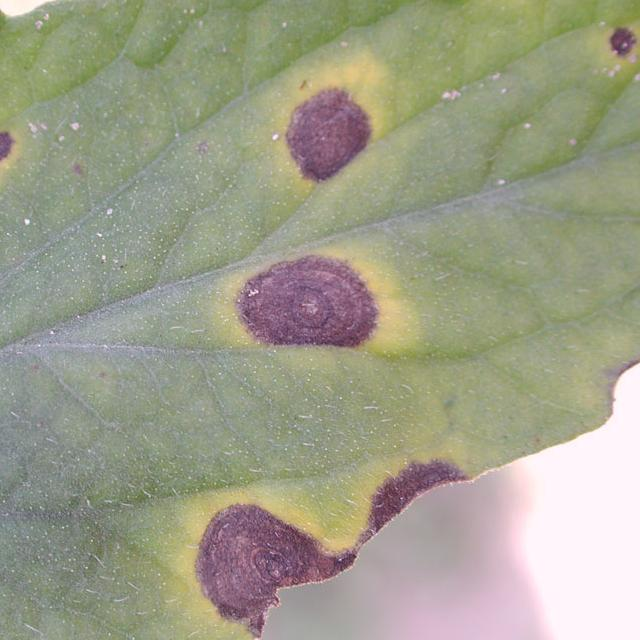Tomato Early blight leaf: (0, 3, 640, 640)
